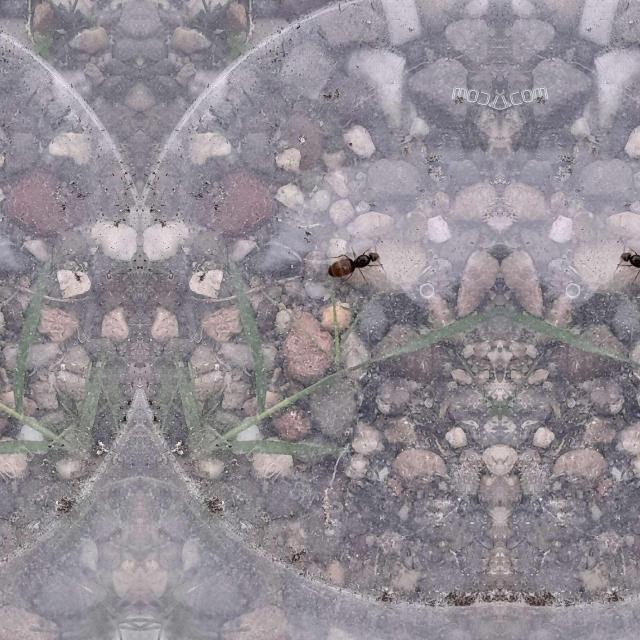Lasius: (322, 242, 386, 282), (612, 242, 640, 282)
